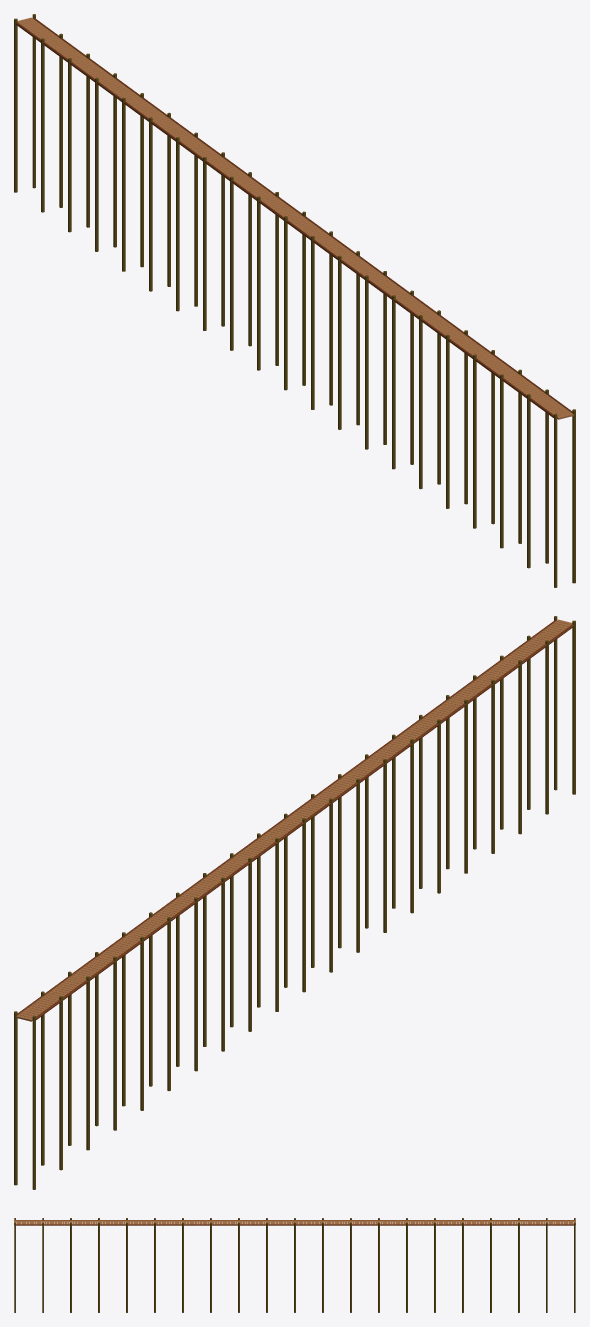
File: LongTallBridge.fbx
The picture shows the model from 3 angles, top to bottom: view 1: azimuth 30°, elevation 25°; view 2: azimuth 150°, elevation 25°; view 3: azimuth 270°, elevation 25°; orthographic projection. The views are drawn at different scales.
Parts seen in each view (by area): view 1: Cube.001; view 2: Cube.001; view 3: Cube.001.
Boxes of the visible parts, x1,y1,x2,y2 form: Cube.001: (14,14,575,587); Cube.001: (14,616,575,1189); Cube.001: (14,1218,575,1312).
Size of the model in its own units: 280 by 2140 by 12175.
